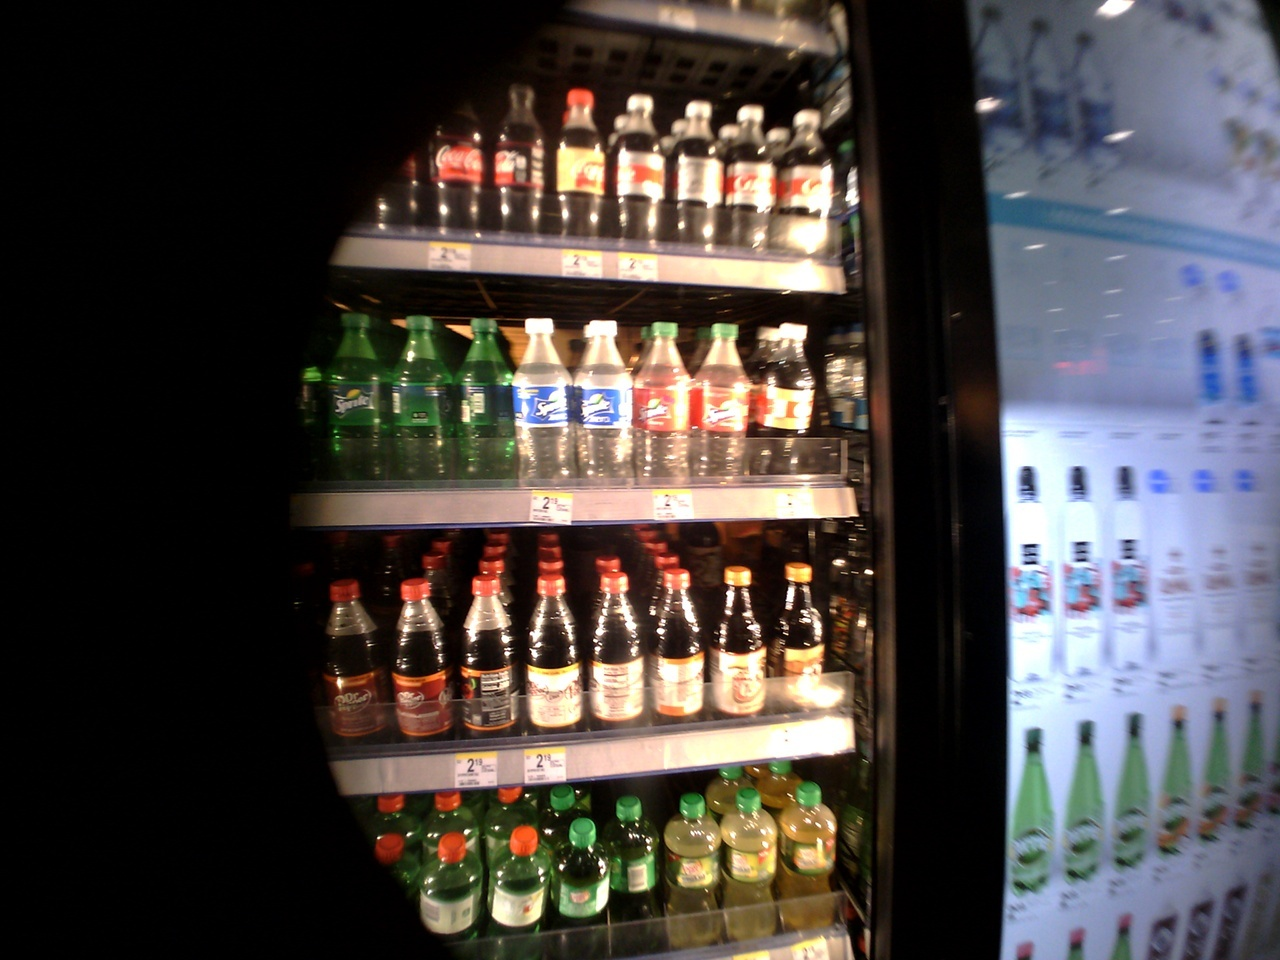shelf: (277, 531, 865, 773), (323, 42, 814, 314), (305, 290, 853, 531), (312, 761, 884, 948)
